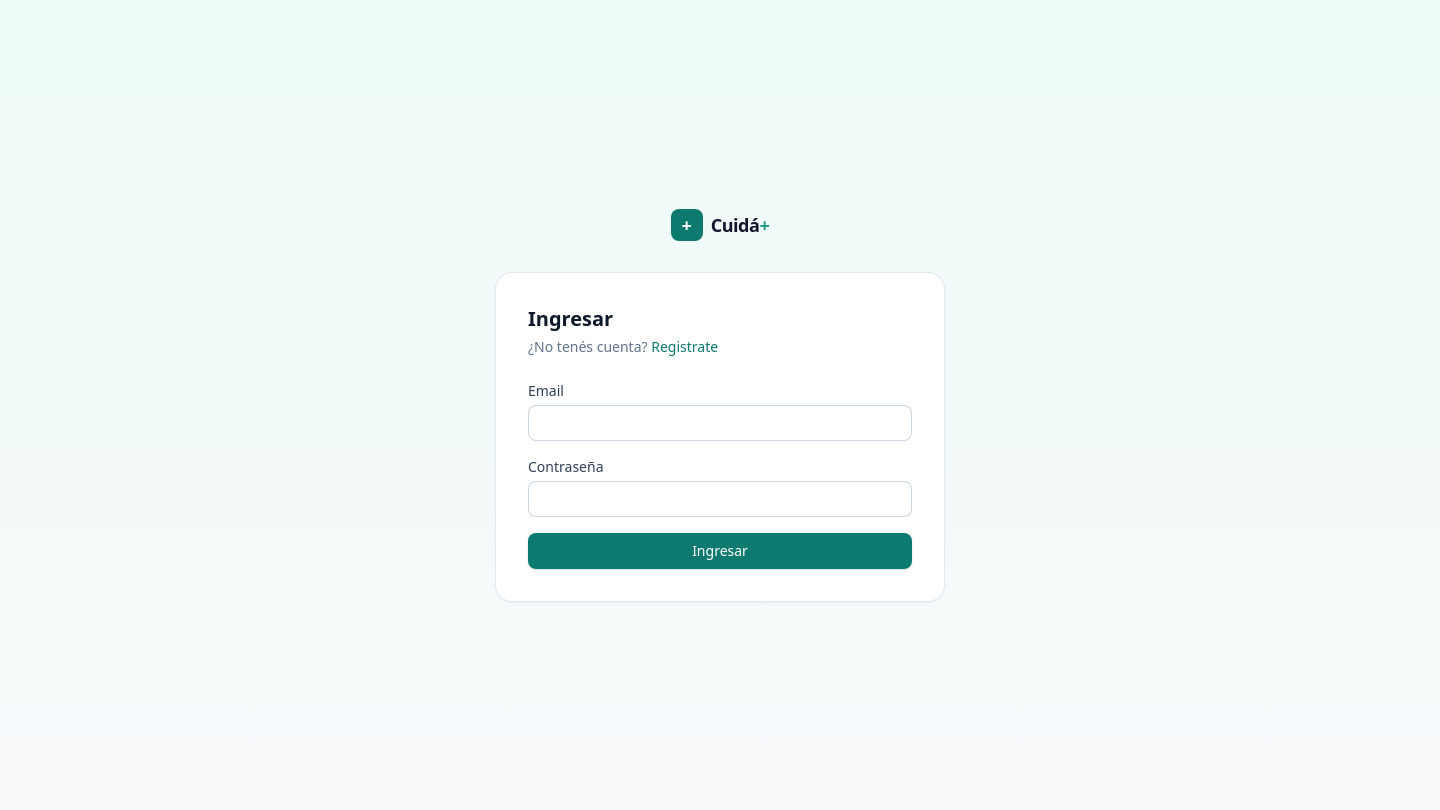
Scenario: LoginPage › muestra el mensaje del servidor si las credenciales son incorrectas
Type "admin@cuidamas.com" into the field labelled "Email".
click(720, 423); type("admin@cuidamas.com")  # box [528,405,912,441]
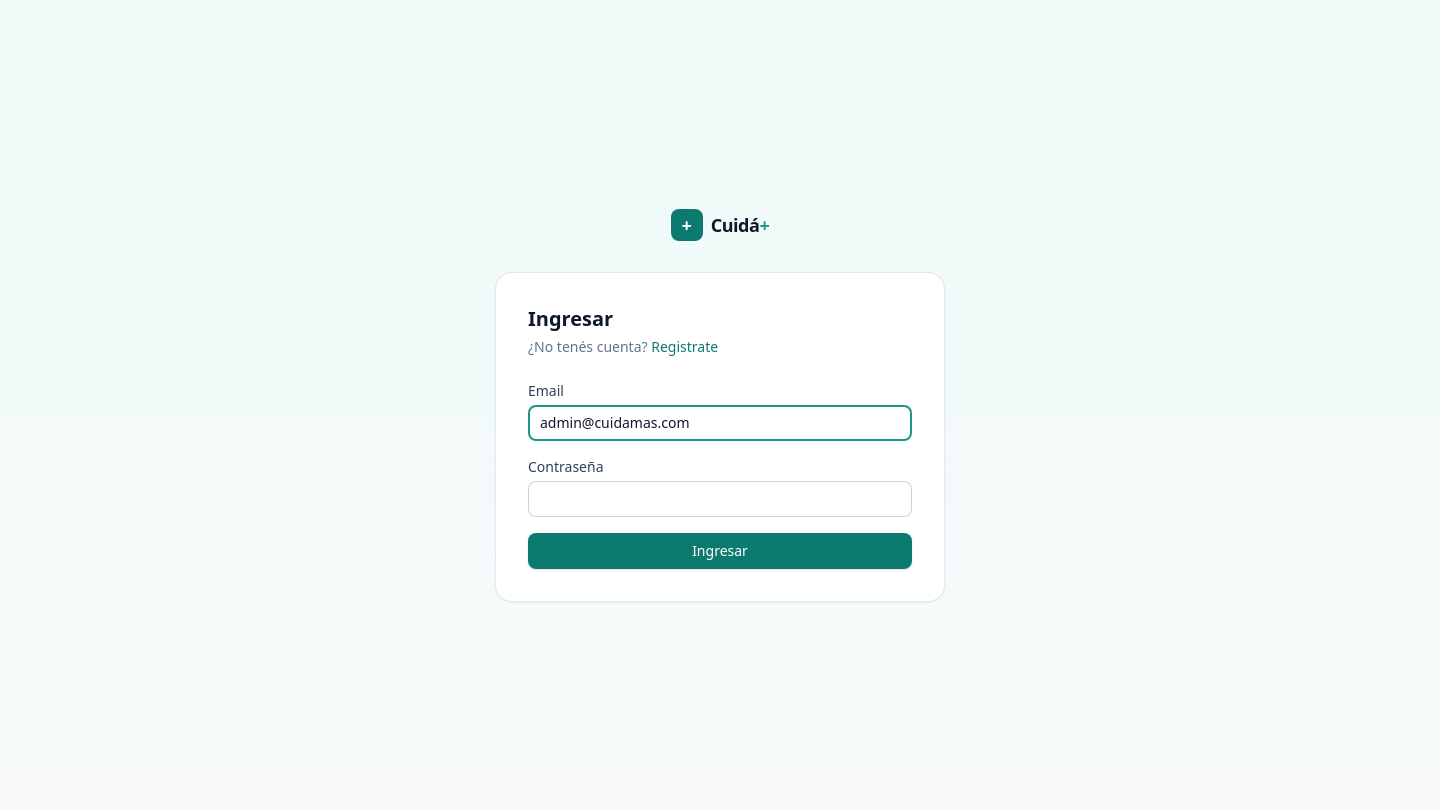
Type "mala" into the password field labelled "Contraseña".
click(720, 499); type("mala")  # box [528,481,912,517]
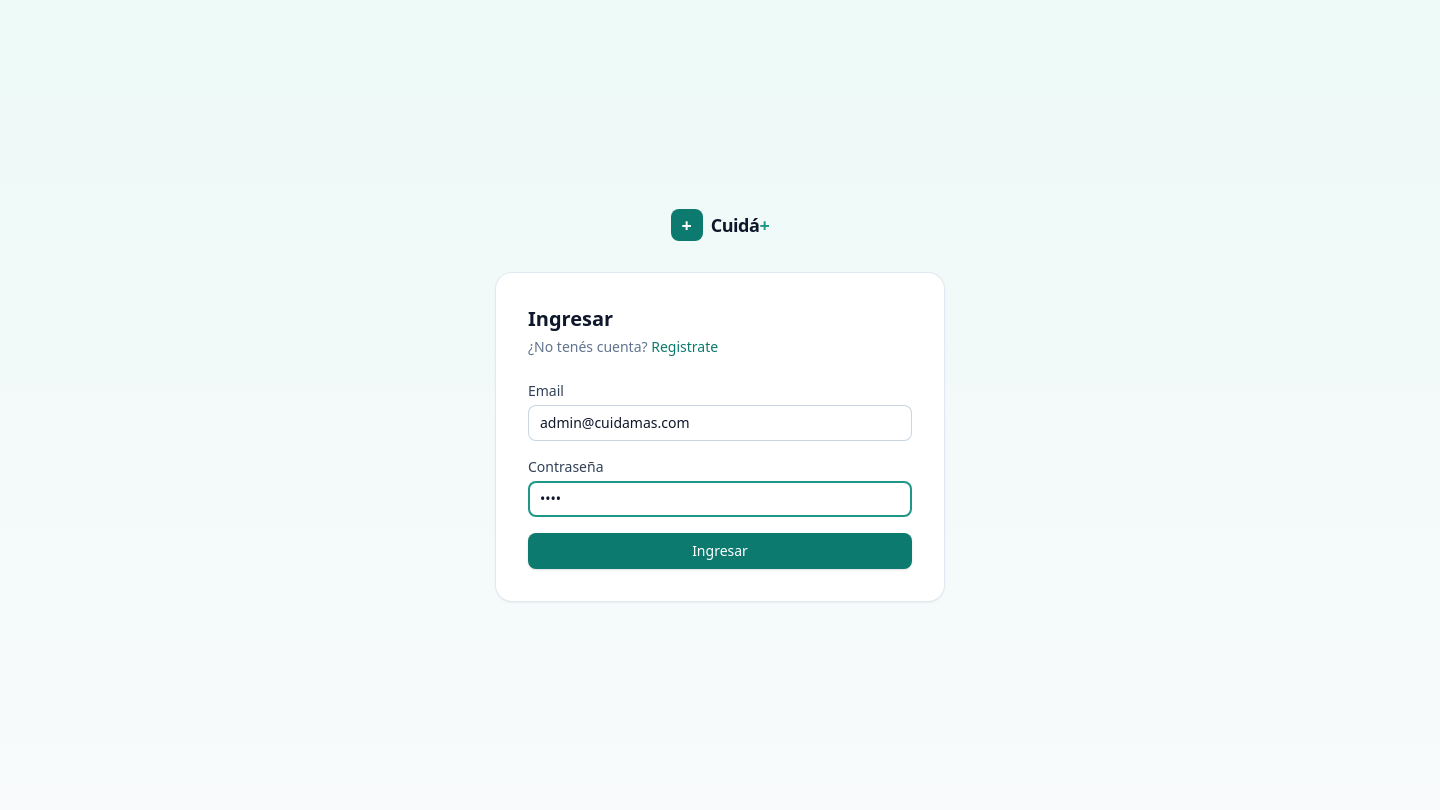
Click the button "Ingresar".
click(720, 551)  # box [528,533,912,569]
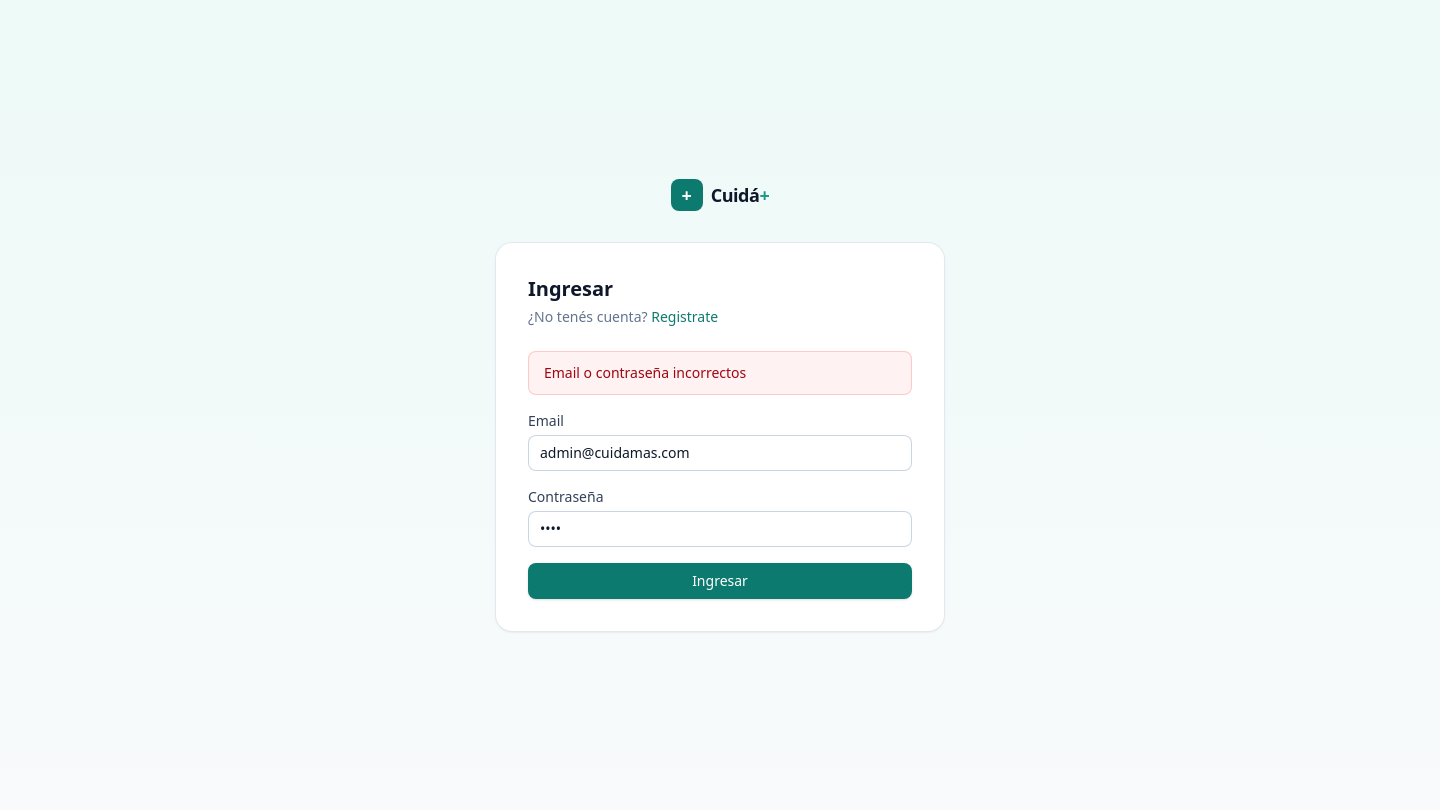
Result: the message reads "Email o contraseña incorrectos" at [544,363,746,382]
